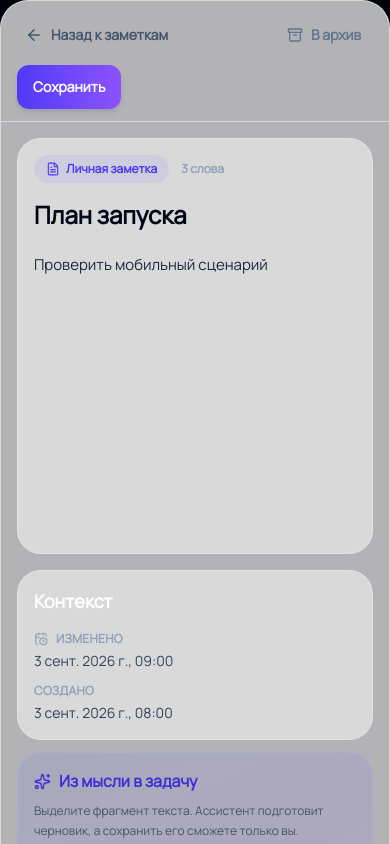
Test case: NotesPage mobile navigation › saves a changed note before returning to the list
Replace the text in the field named "Заголовок заметки" with "Обновлённый план" at (195, 215), box [34,199,356,231]
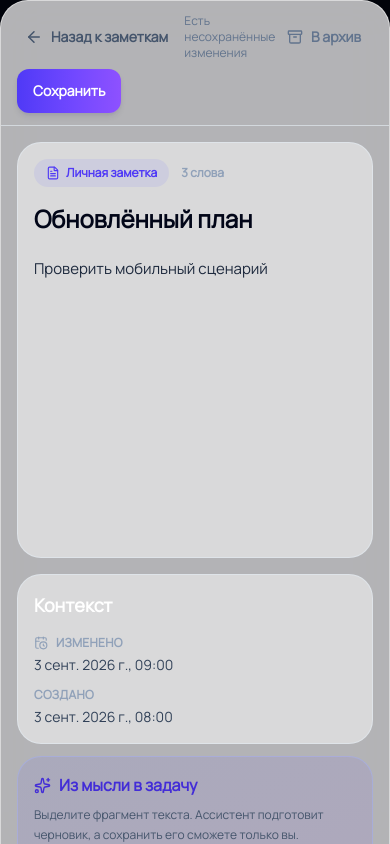
Click the button "Назад к заметкам" at (97, 37), box [17,15,176,59]
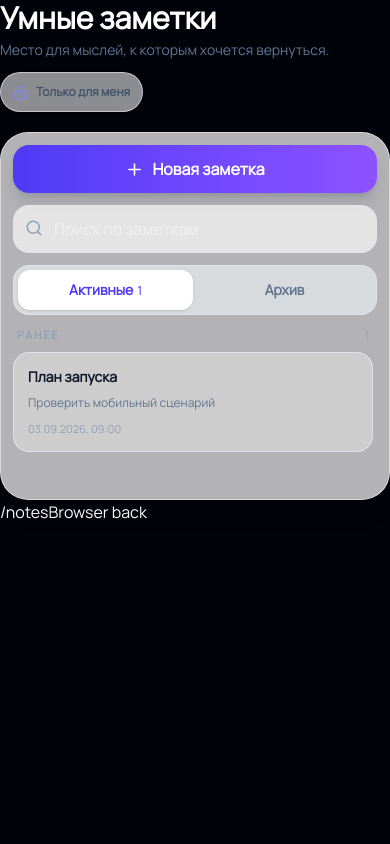
Now the text with test id "location" reads "/notes", box [0,501,48,523]
